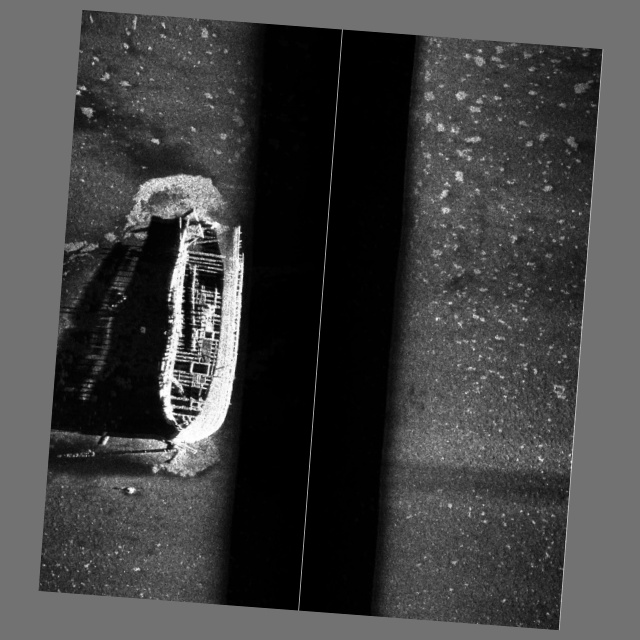Shipwreck: (56, 198, 248, 470)
